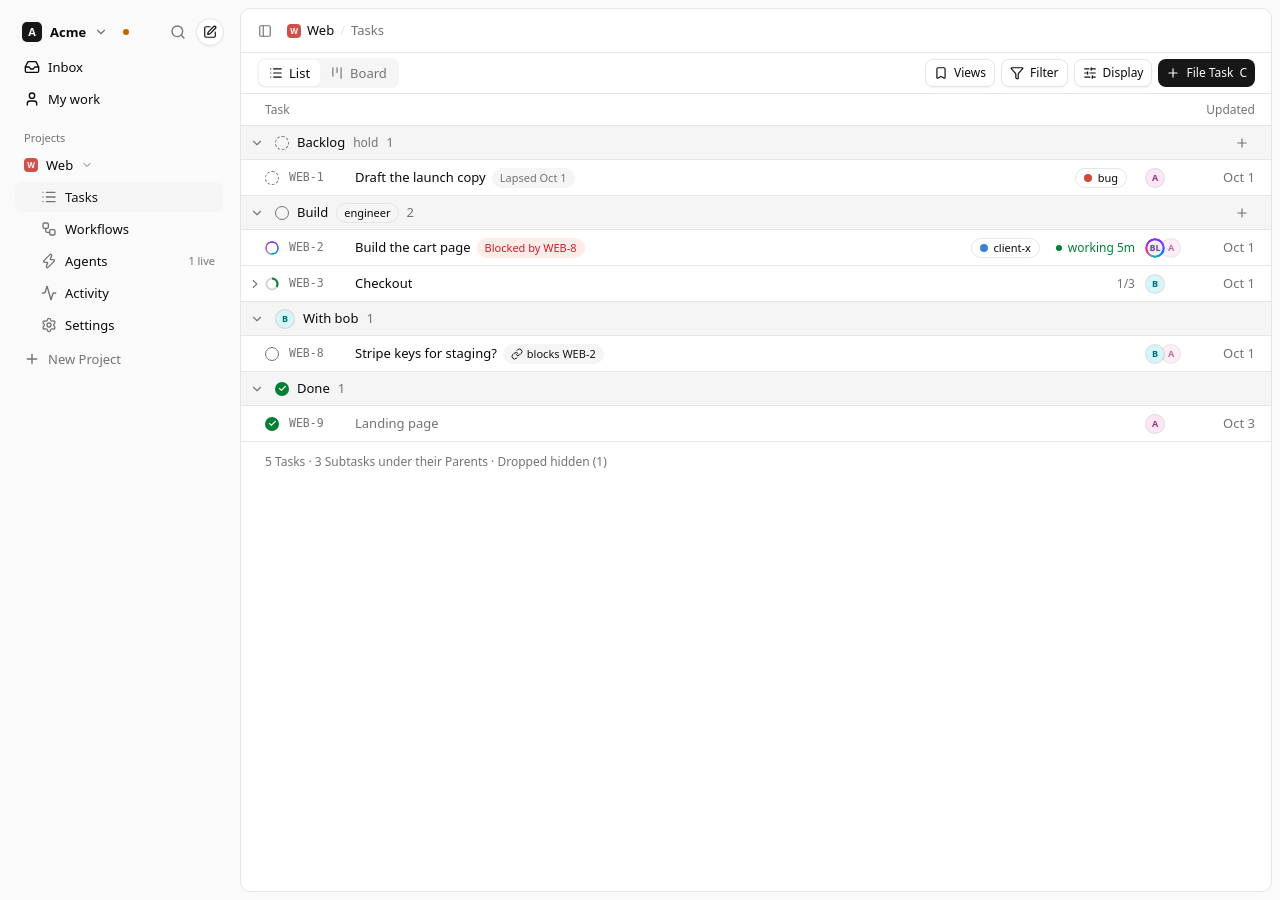
Tasks, list › a group's + and C open File a Task in this Project, the + at its Step
Click the button named "File a Task at Backlog" at [1242, 142], box [1229, 130, 1255, 156]
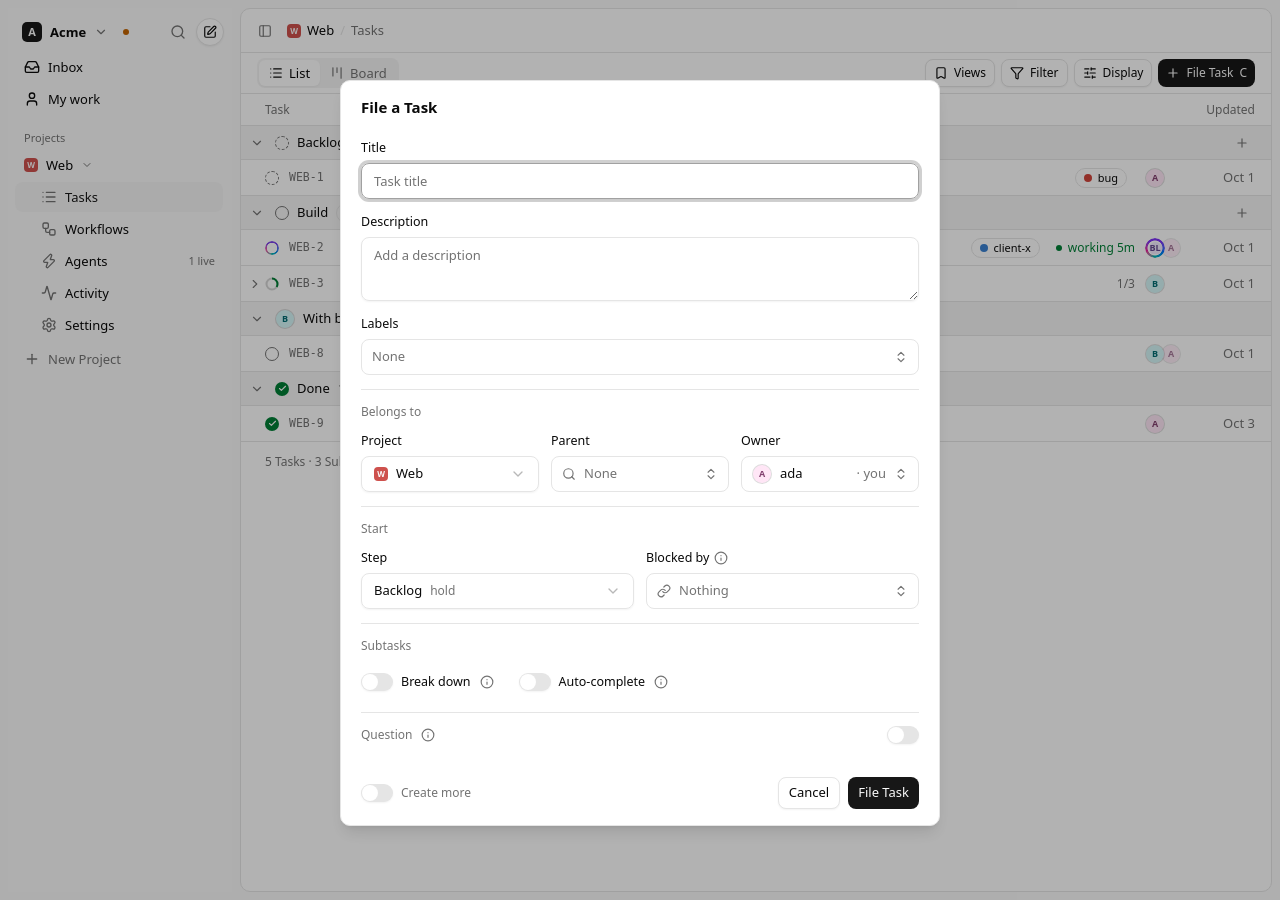
Result: the dropdown named "Step" shows "Backlog" at [361, 573, 634, 609]
